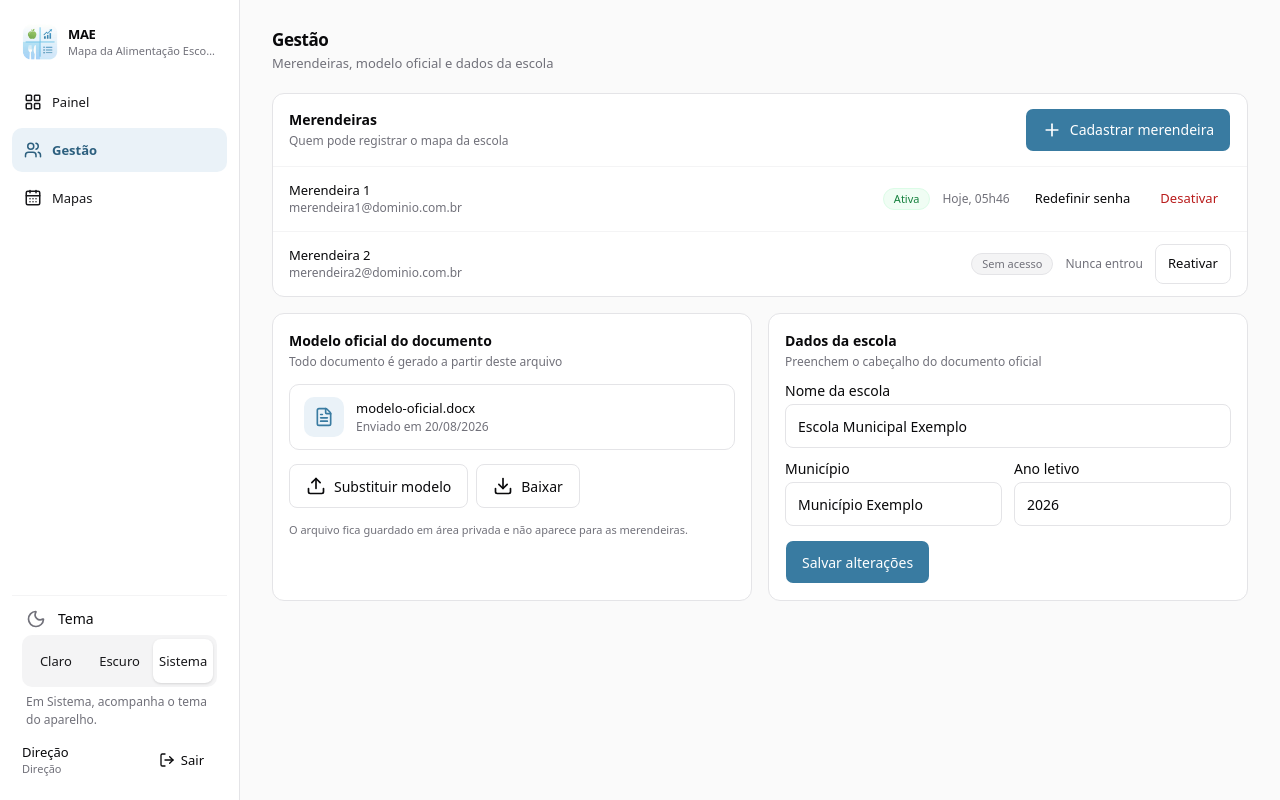
acessos das merendeiras › desativa o acesso sem apagar a pessoa
Click the button with aria-label "Desativar o acesso de Merendeira 1" at (1189,199), box [1147,179,1231,219]
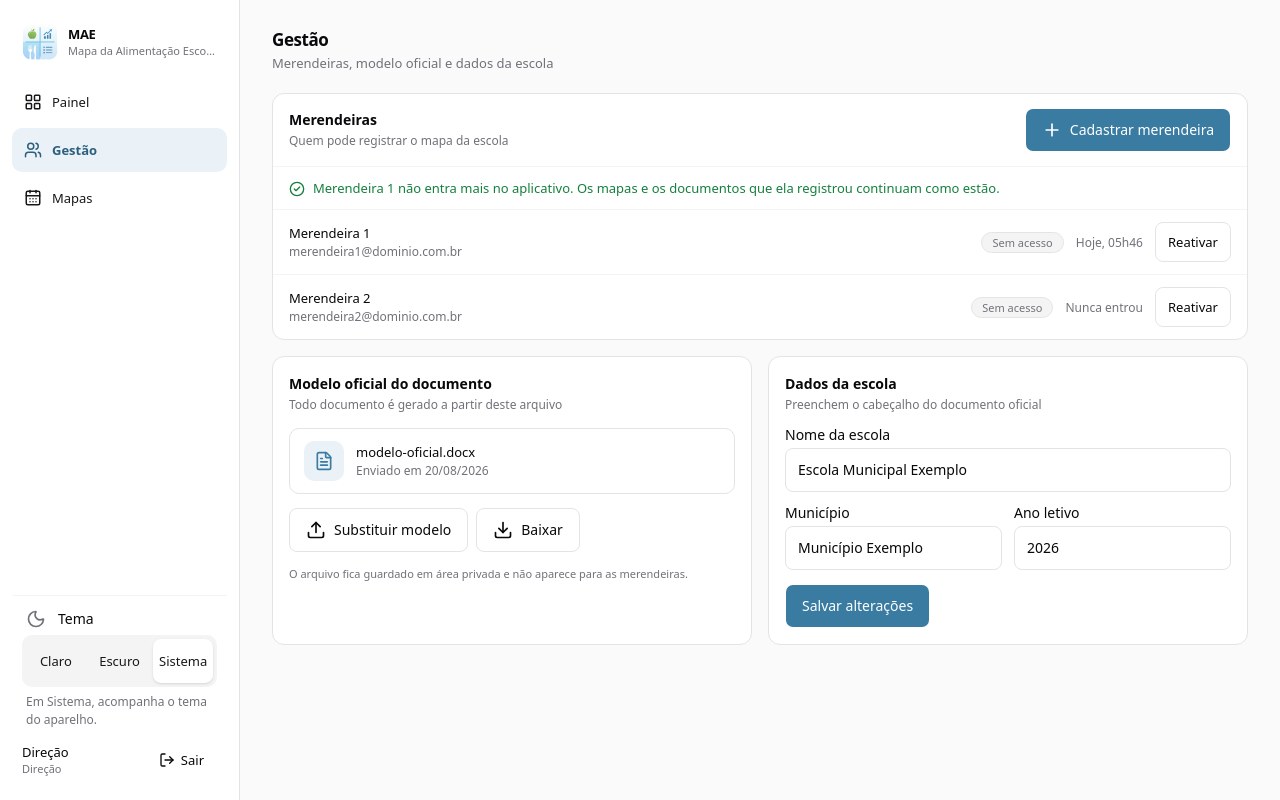
Expected: the text "Merendeira 1 não entra mais no aplicativo" is shown, [313,179,1000,197]
